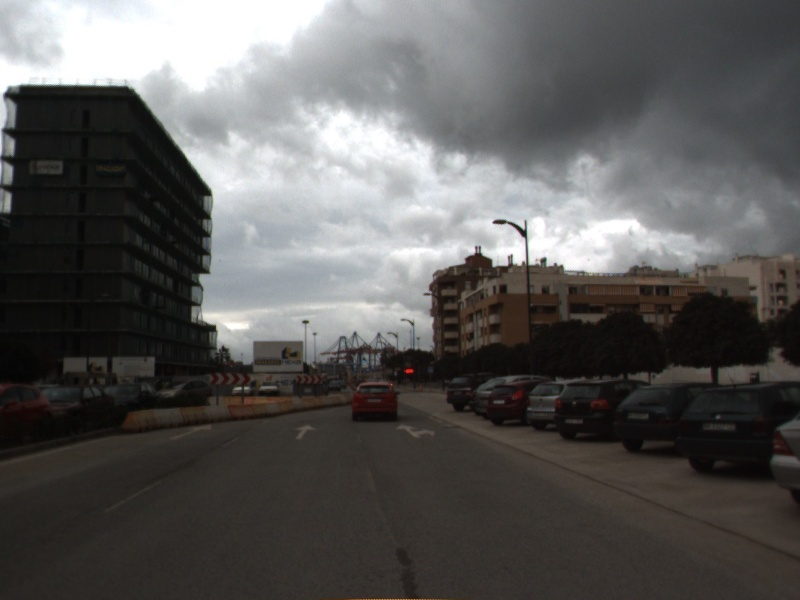STRAIGHT: (168, 422, 213, 442), (292, 422, 319, 441)
STRAIGHT_RIGHT: (394, 422, 438, 440)
